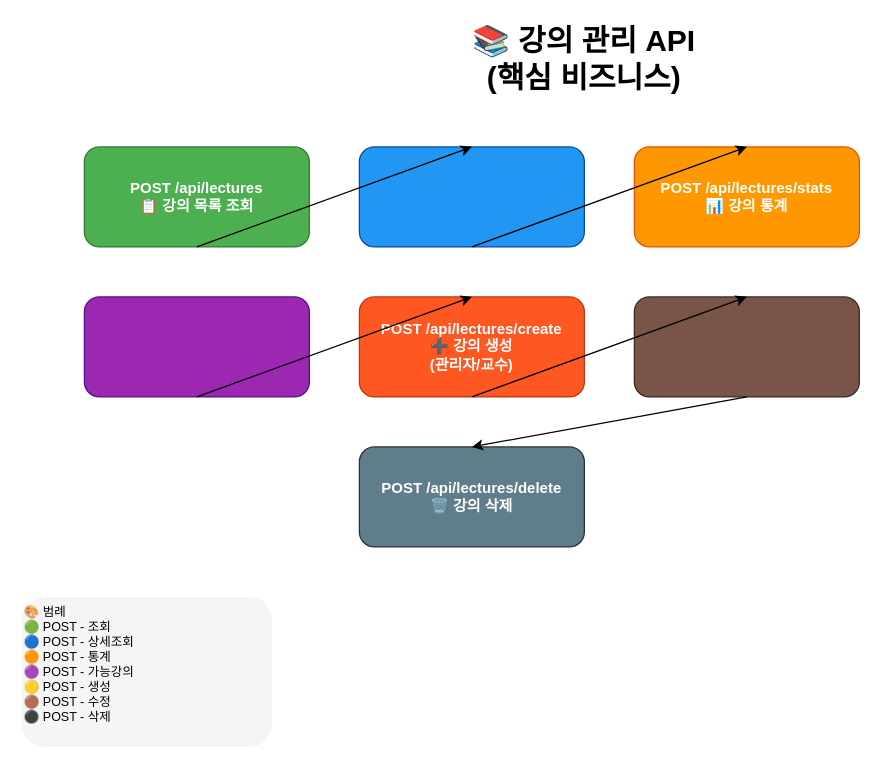
Image size: 881x768. Some labels were removed from this diagram. Here are the shapes that lost their labels. From the top down, the centre of each, then its label:
point (471, 196): POST /api/lectures/detail 🔍 강의 상세 조회
point (196, 346): POST /api/lectures/eligible ✅ 수강 가능 강의
point (746, 346): POST /api/lectures/update ✏️ 강의 수정
